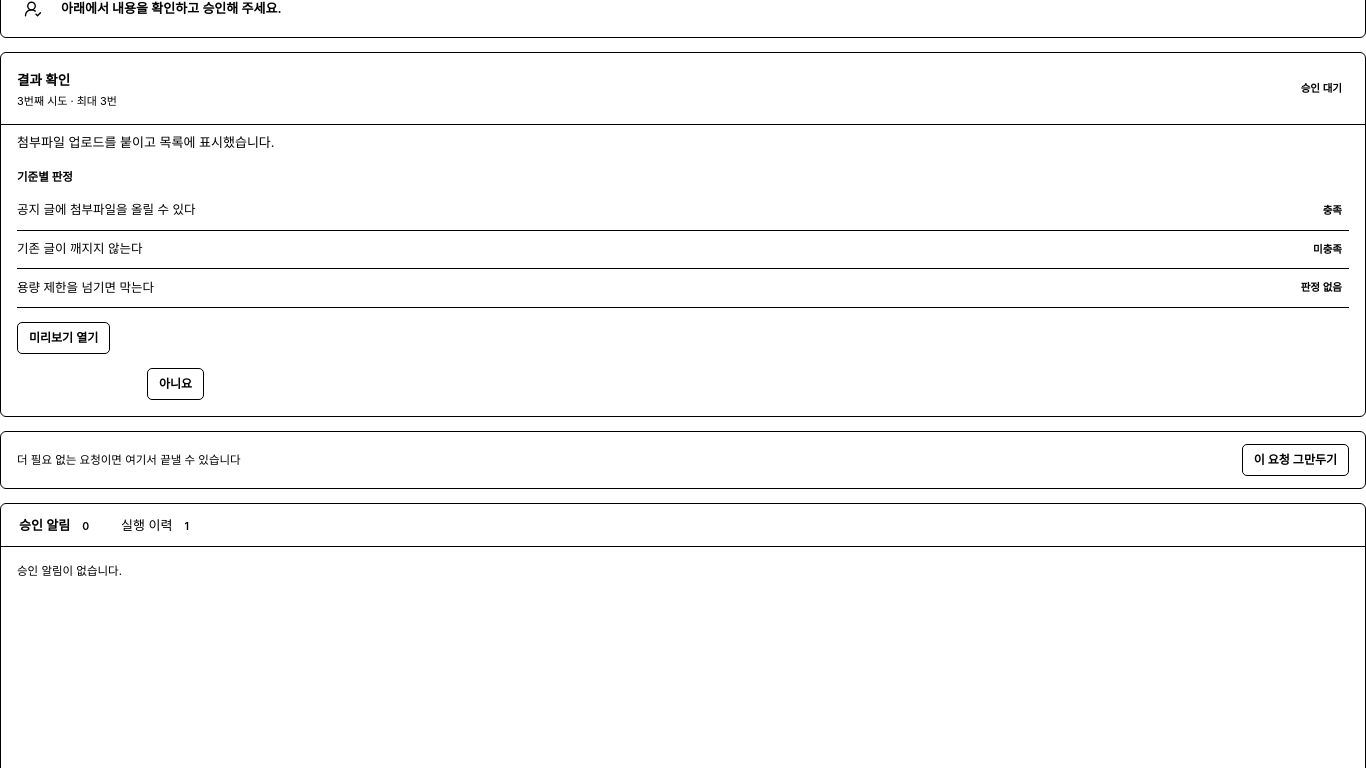
Scenario: rejecting the last attempt says the request is cancelled, not retried
(page scrolled)
Click the button "아니요" at (176, 384), box x1=147 y1=368 x2=204 y2=400
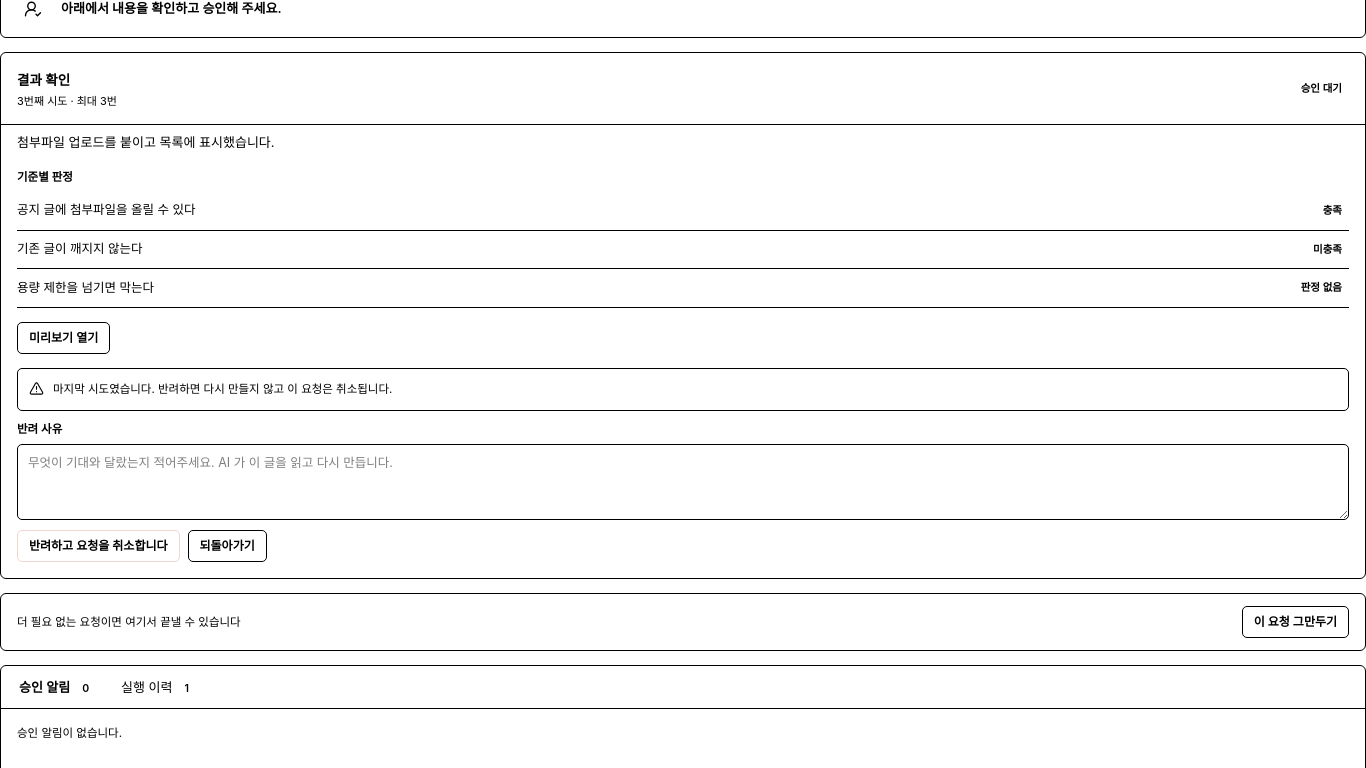
Now the text "마지막 시도였습니다. 반려하면 다시 만들지 않고 이 요청은 취소됩니다." is shown, box x1=53 y1=380 x2=392 y2=399
Now the button "반려하고 요청을 취소합니다" is shown, box x1=17 y1=530 x2=180 y2=562
